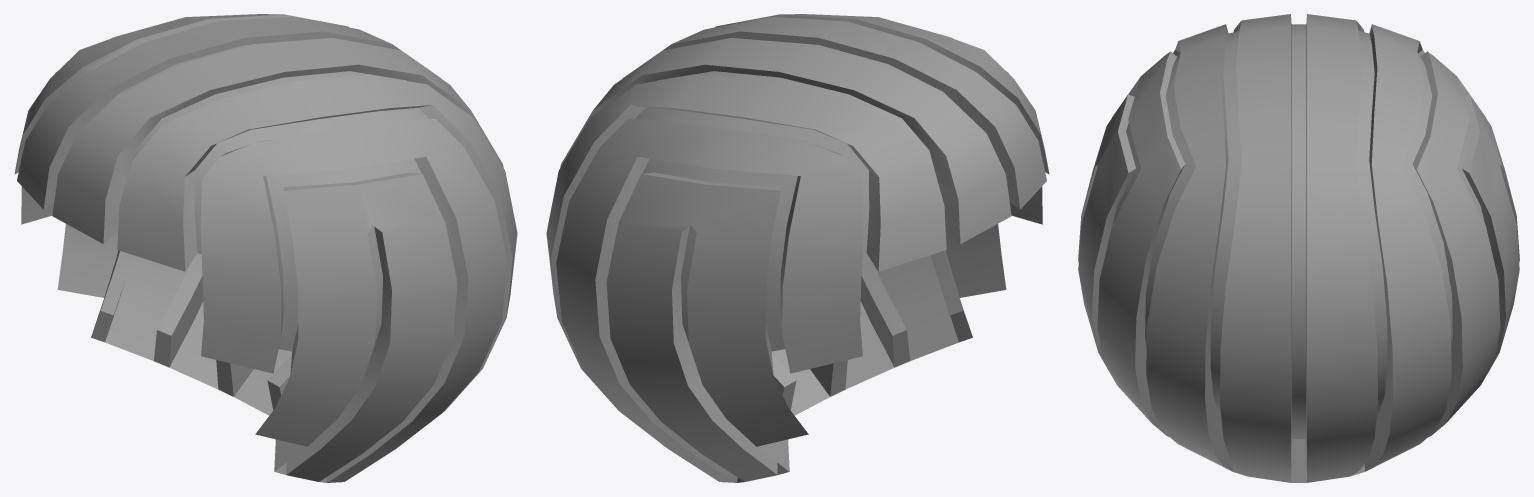
Rendered from Hair04.fbx.
The picture shows the model from 3 angles, left to right: view 1: azimuth 30°, elevation 25°; view 2: azimuth 150°, elevation 25°; view 3: azimuth 270°, elevation 25°; orthographic projection. The views are drawn at different scales.
Visible parts, largest first — view 1: Hair04; view 2: Hair04; view 3: Hair04.
Part boxes in pixels (x1=…): Hair04: x1=14, y1=14, x2=517, y2=482; Hair04: x1=546, y1=14, x2=1049, y2=482; Hair04: x1=1078, y1=14, x2=1519, y2=482.
Size of the model in its own units: 0.821 by 0.7818 by 0.7642.
